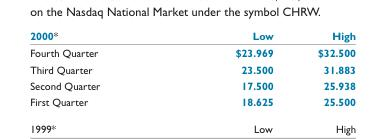table: (29, 28, 355, 108)
table column: (29, 28, 166, 108), (166, 28, 294, 108), (294, 28, 355, 108)
table column header: (29, 28, 355, 43)
table row: (29, 43, 355, 60), (29, 60, 355, 77), (29, 77, 355, 93), (29, 28, 355, 43), (29, 93, 355, 108)
